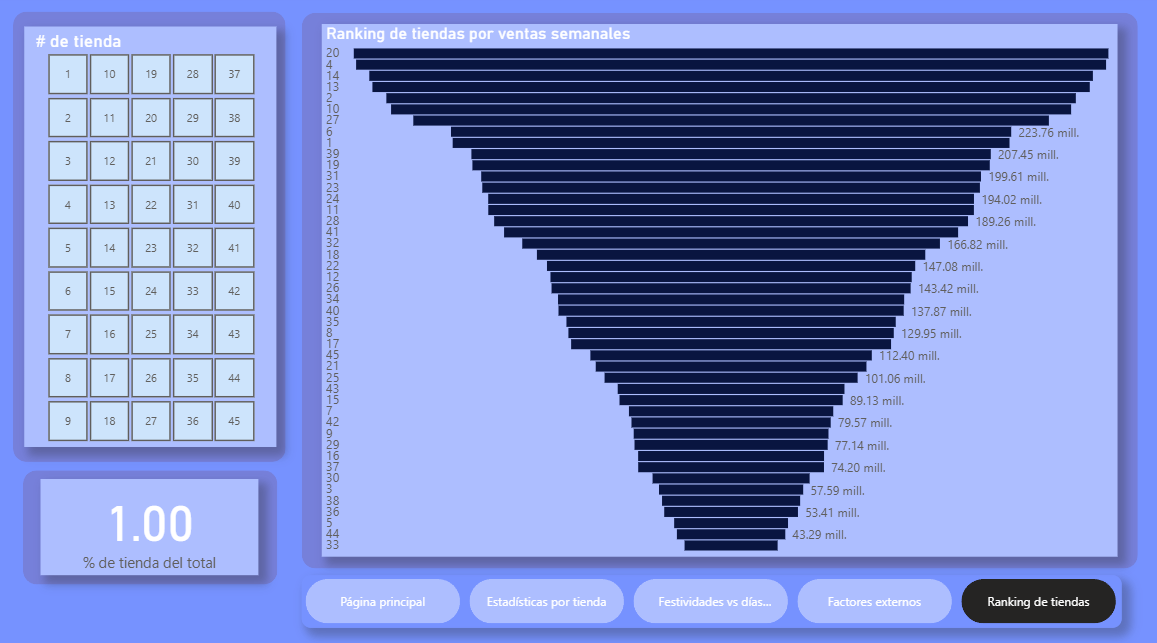

This screenshot's page, from the dashboard's own definition file:
{"tool":"powerbi","page":{"name":"Ranking de tiendas","canvas":[1280,720],"ordinal":4},"visuals":[{"type":"pageNavigator","box":[333.4,638.1,900.2,57.6],"z":0},{"type":"shape","box":[333.5,20,918,610.1],"z":1000},{"type":"funnel","title":"Ranking de tiendas por ventas semanales","fields":{"Y":["Sum(Walmart.Weekly_Sales)"],"Category":["Walmart.Store"]},"box":[354.9,32.8,873.8,584.4],"z":2000},{"type":"shape","box":[27.1,523.1,279.4,125.4],"z":3000},{"type":"card","fields":{"Values":["Walmart.Store % of Total"]},"box":[47,533.1,239.5,105.5],"z":4000},{"type":"shape","box":[17.1,18.5,299.3,494.6],"z":5000},{"type":"slicer","fields":{"Values":["Walmart.Store"]},"box":[28.5,35.6,276.5,461.8],"z":6000}]}

Visuals, with their boxes in screenshot pixels (x1, y1, x2, y2), scaled from the page's 1280x720 canvas onto the 1157x643 screenshot:
pageNavigator: BBox(301, 570, 1115, 621)
shape: BBox(301, 18, 1131, 563)
"Ranking de tiendas por ventas semanales" funnel: BBox(321, 29, 1111, 551)
shape: BBox(24, 467, 277, 579)
card - Walmart.Store % of Total: BBox(42, 476, 259, 570)
shape: BBox(15, 17, 286, 458)
slicer - Walmart.Store: BBox(26, 32, 276, 444)
